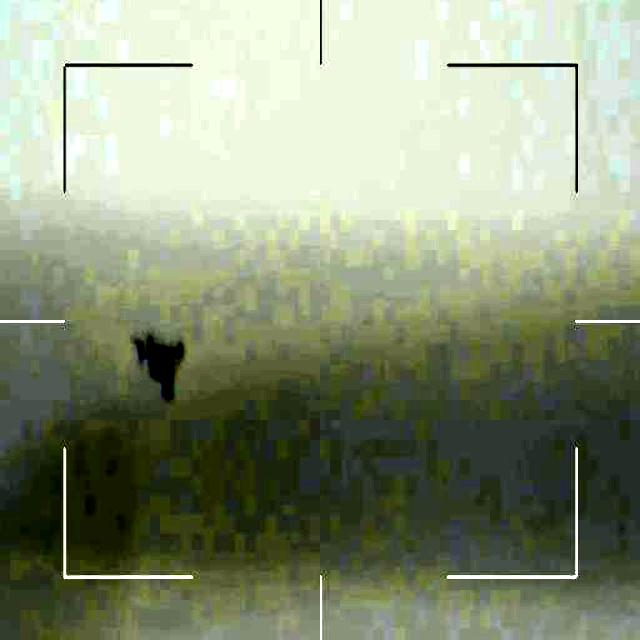bird: (136, 330, 195, 400)
